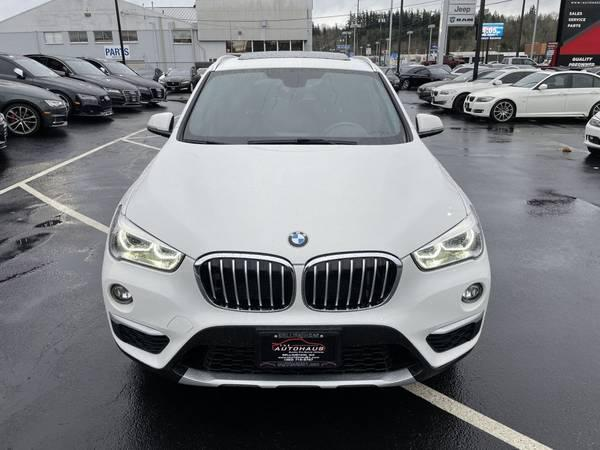Front_Bumper: (102, 249, 492, 381)
Front_Windshield: (182, 70, 407, 149)
Grille: (195, 249, 405, 314)
Hood: (120, 136, 469, 263)
Left_Headlight: (415, 204, 486, 267)
Left_Mirror: (415, 113, 445, 139)
Right_Headlight: (110, 199, 185, 267)
Right_Mirror: (144, 110, 173, 137)
Roof: (169, 51, 420, 146)
